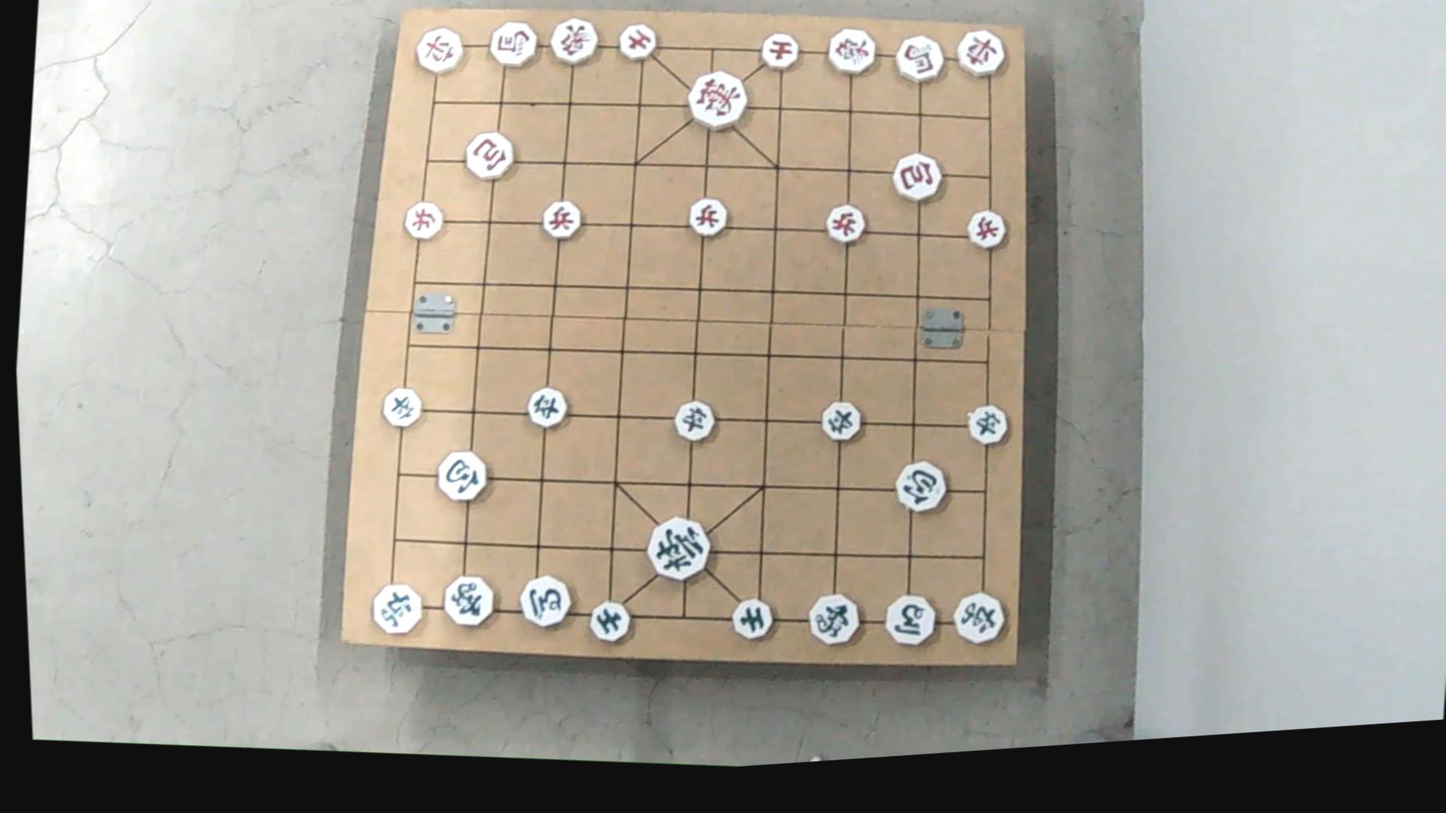cha_green: (947, 586, 1010, 651), (371, 582, 428, 638)
cha_red: (952, 26, 1008, 82), (413, 26, 468, 78)
jol_green: (675, 398, 721, 443), (527, 386, 573, 431), (962, 403, 1009, 447), (817, 398, 862, 443), (381, 385, 427, 429)
jol_red: (541, 199, 586, 242), (964, 209, 1010, 251), (823, 204, 868, 246), (684, 197, 728, 239), (404, 201, 447, 242)
ma_green: (518, 572, 576, 635), (881, 593, 940, 650)
ma_red: (891, 32, 948, 88), (487, 20, 541, 70)
po_green: (435, 447, 493, 504), (892, 461, 950, 515)
po_red: (890, 151, 947, 204), (465, 129, 519, 180)
sa_green: (585, 595, 634, 648), (731, 596, 779, 642)
sa_red: (758, 32, 802, 72), (615, 23, 660, 62)
sang_green: (806, 586, 865, 652), (443, 572, 498, 632)
sang_red: (824, 23, 879, 79), (548, 16, 603, 66)
wang_green: (646, 515, 716, 583)
wang_red: (685, 68, 754, 131)
